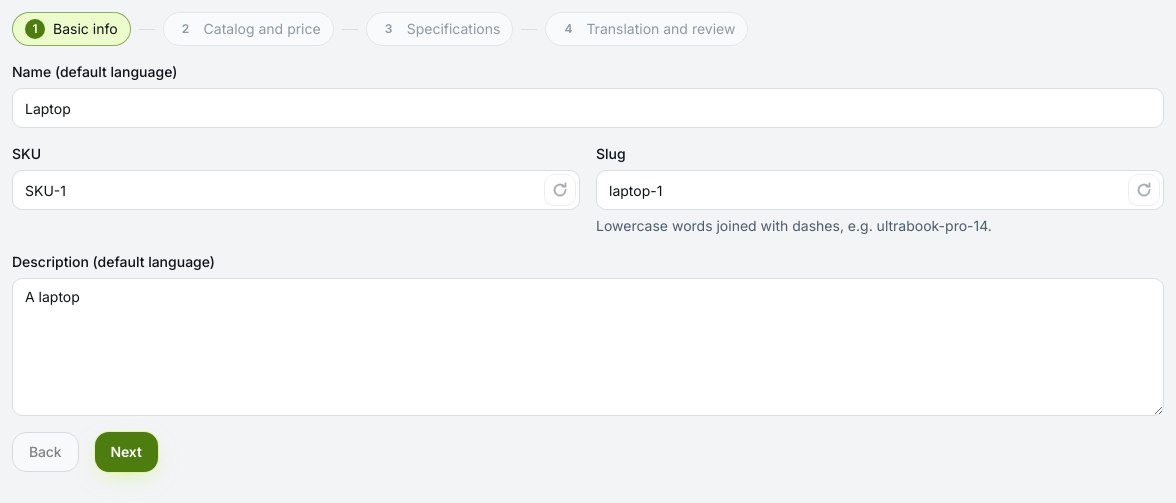
it: ProductForm wizard › shows only step 1 fields at first and advances on valid step
This screenshot has width=1176, height=503.
Expected: the field labelled "SKU" is shown, [12, 170, 580, 210]
Expected: the field labelled "Brand" is not shown
What coordinates should you click on to do the following:
click the button "Next"
I would click on:
 (126, 452)
Its box is [94, 432, 158, 472].
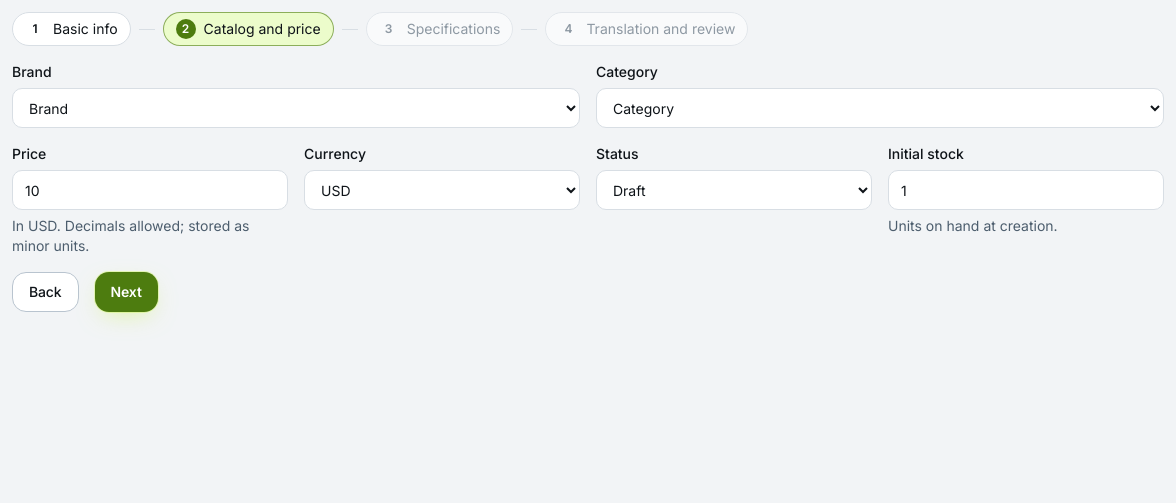
Result: the dropdown labelled "Brand" is shown at [12, 88, 580, 128]
